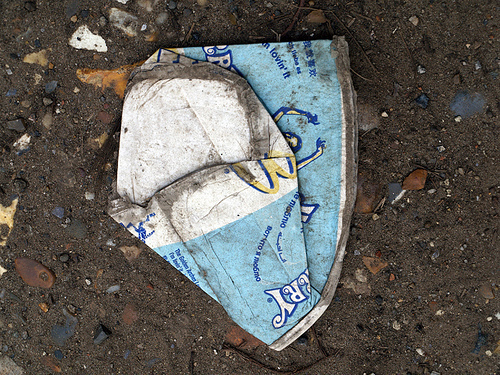litter: (108, 34, 359, 349)
